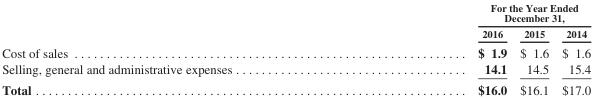table: (1, 1, 590, 96)
table column: (1, 1, 354, 96), (354, 1, 512, 96), (512, 1, 554, 96), (554, 1, 590, 96)
table column header: (1, 1, 590, 42)
table row: (1, 1, 590, 25), (1, 42, 590, 60), (1, 60, 590, 78), (1, 78, 590, 96), (1, 25, 590, 42)
table spanning cell: (354, 1, 590, 25)
